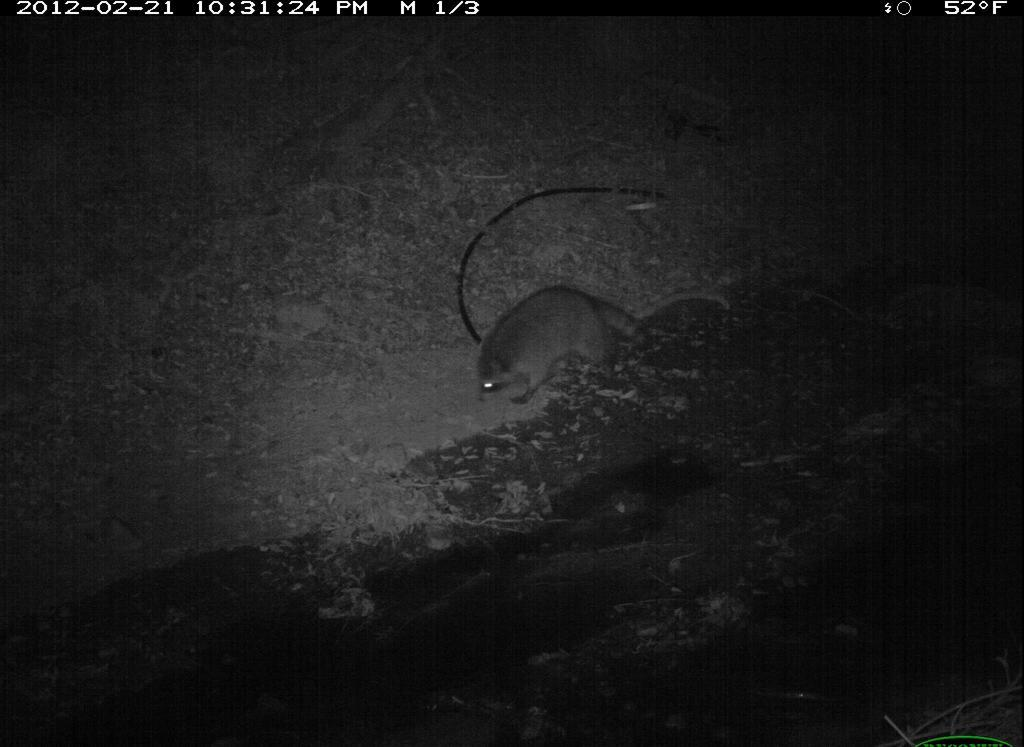raccoon: (478, 277, 653, 411)
